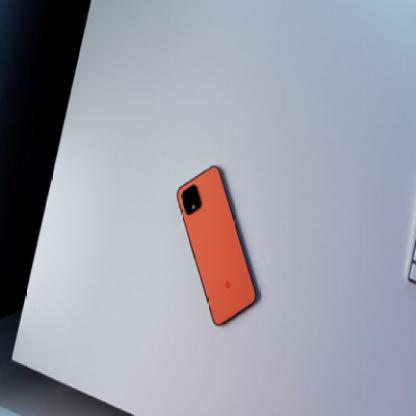cell-phone: (173, 160, 261, 326)
